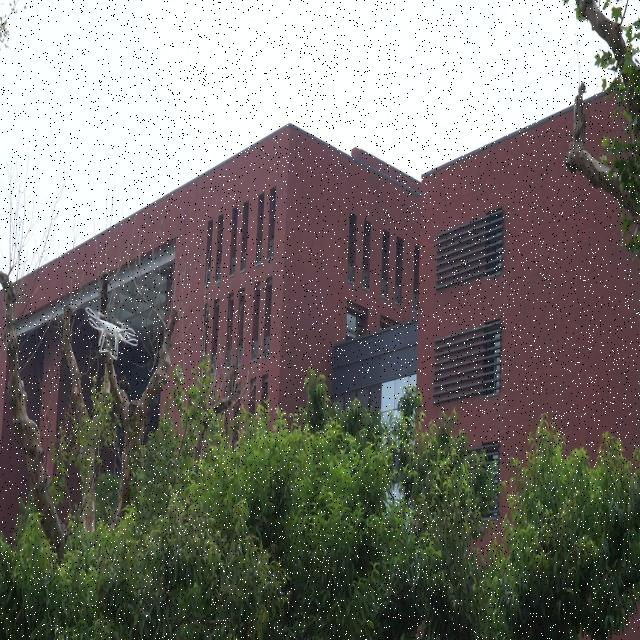UAV: (85, 308, 138, 360)
